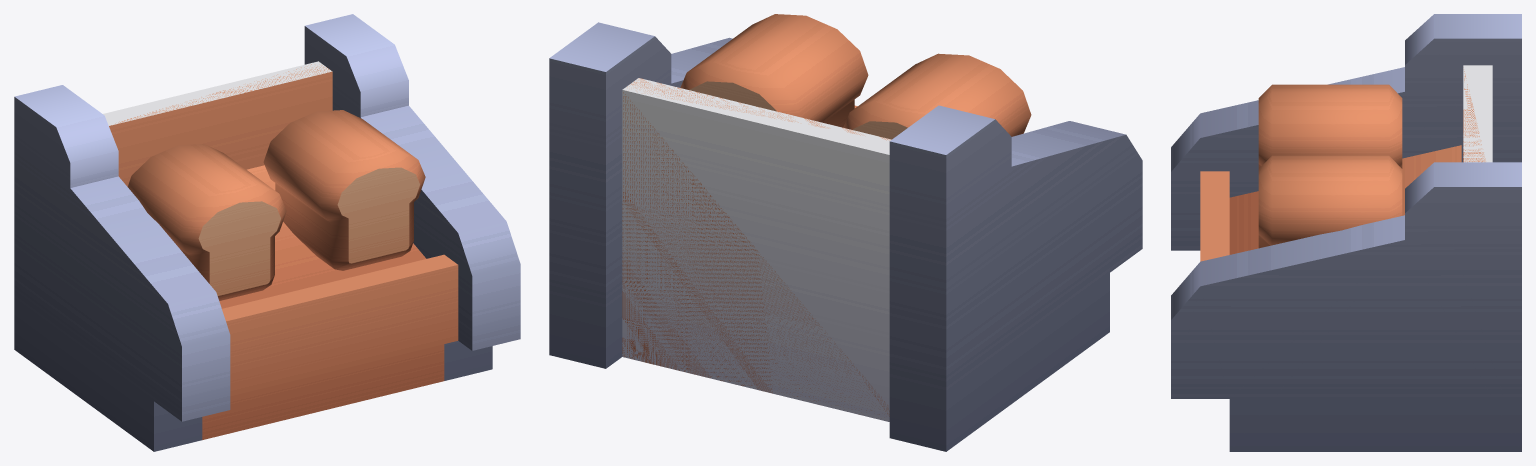
File: bread-stand.glb
3 renders of one model, left to right at view 1: azimuth 30°, elevation 25°; view 2: azimuth 150°, elevation 25°; view 3: azimuth 270°, elevation 25°, orthographic. The views are drawn at different scales.
Parts seen in each view (by area): view 1: display-bread; view 2: display-bread; view 3: display-bread.
Boxes of the visible parts, bbox=[...] form: display-bread: bbox=[14, 14, 520, 451]; display-bread: bbox=[549, 14, 1142, 451]; display-bread: bbox=[1171, 14, 1521, 451].
Size of the model in its own units: 1.47 by 1.05 by 1.26.
1 material, 1 textured.
